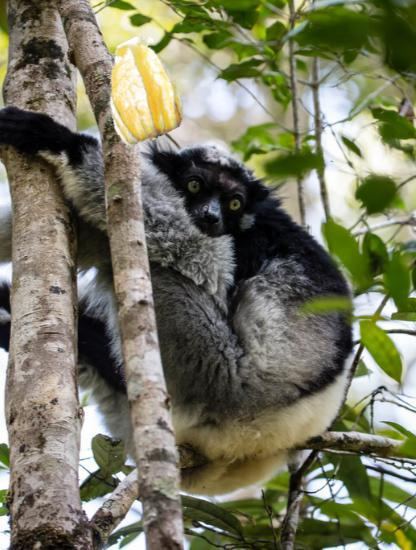Physalis: (89, 41, 190, 142)
